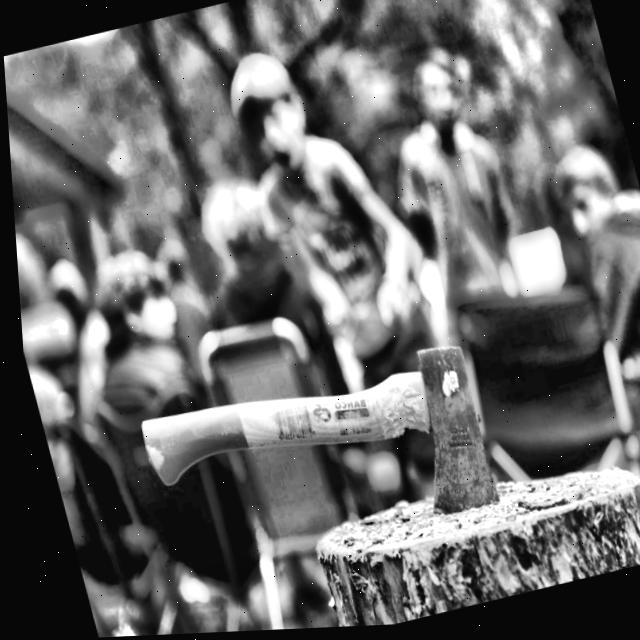kapak: (128, 340, 499, 519)
